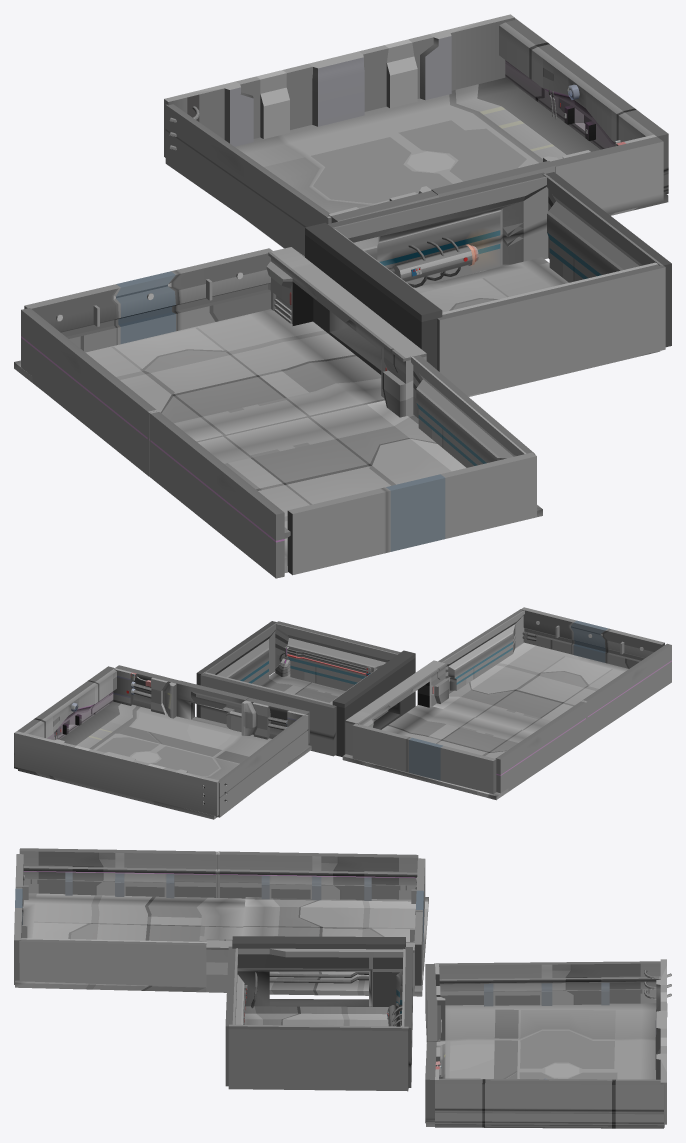
The model's file is cuartos.fbx.
3 views of the same model, one above another, from view 1: azimuth 30°, elevation 25°; view 2: azimuth 150°, elevation 25°; view 3: azimuth 270°, elevation 25° (orthographic). The views are drawn at different scales.
Visible parts, largest first — view 1: polySurface134, polySurface128, polySurface135; view 2: polySurface134, polySurface128, polySurface135; view 3: polySurface134, polySurface128, polySurface135.
Part boxes in pixels (<box>): polySurface134: <box>14,247,542,578</box>; polySurface128: <box>164,14,668,256</box>; polySurface135: <box>305,172,671,396</box>; polySurface134: <box>342,607,671,800</box>; polySurface128: <box>14,665,311,819</box>; polySurface135: <box>196,621,415,756</box>; polySurface134: <box>14,848,428,996</box>; polySurface128: <box>425,959,671,1128</box>; polySurface135: <box>225,936,412,1091</box>.
Bounding box in the file's own units: 6897 × 886 × 7924.
